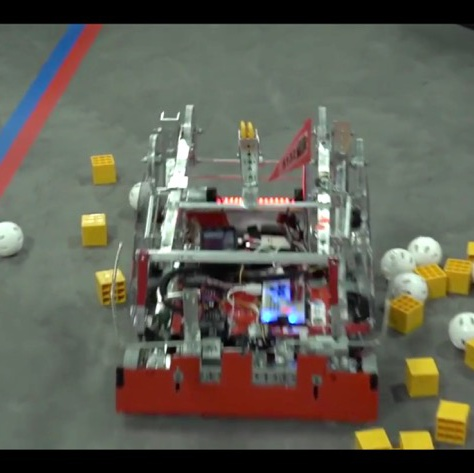robot: (111, 101, 382, 420)
